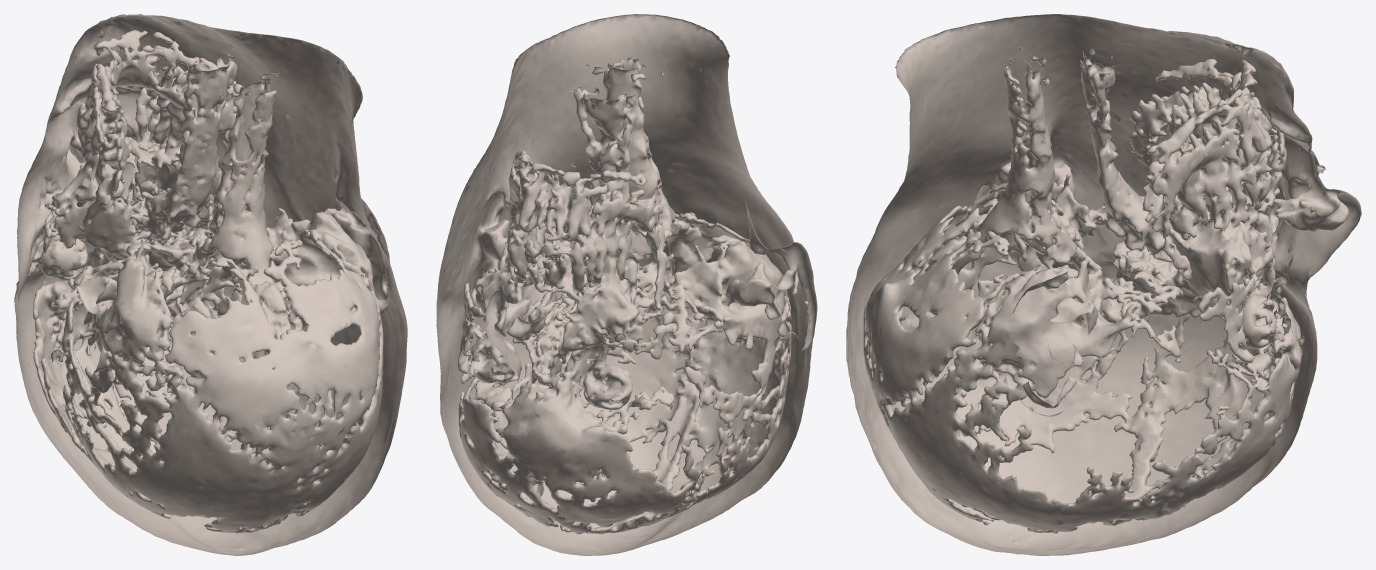
File: skin.glb
The picture shows the model from 3 angles, left to right: view 1: azimuth 30°, elevation 25°; view 2: azimuth 150°, elevation 25°; view 3: azimuth 270°, elevation 25°; orthographic projection. The views are drawn at different scales.
Visible parts, largest first — view 1: world; view 2: world; view 3: world.
Boxes of the visible parts, x1,y1,x2,y2 form: world: (14,14,407,555); world: (436,14,817,555); world: (846,14,1361,555).
Bounding box in the file's own units: 171 × 235 × 224.
